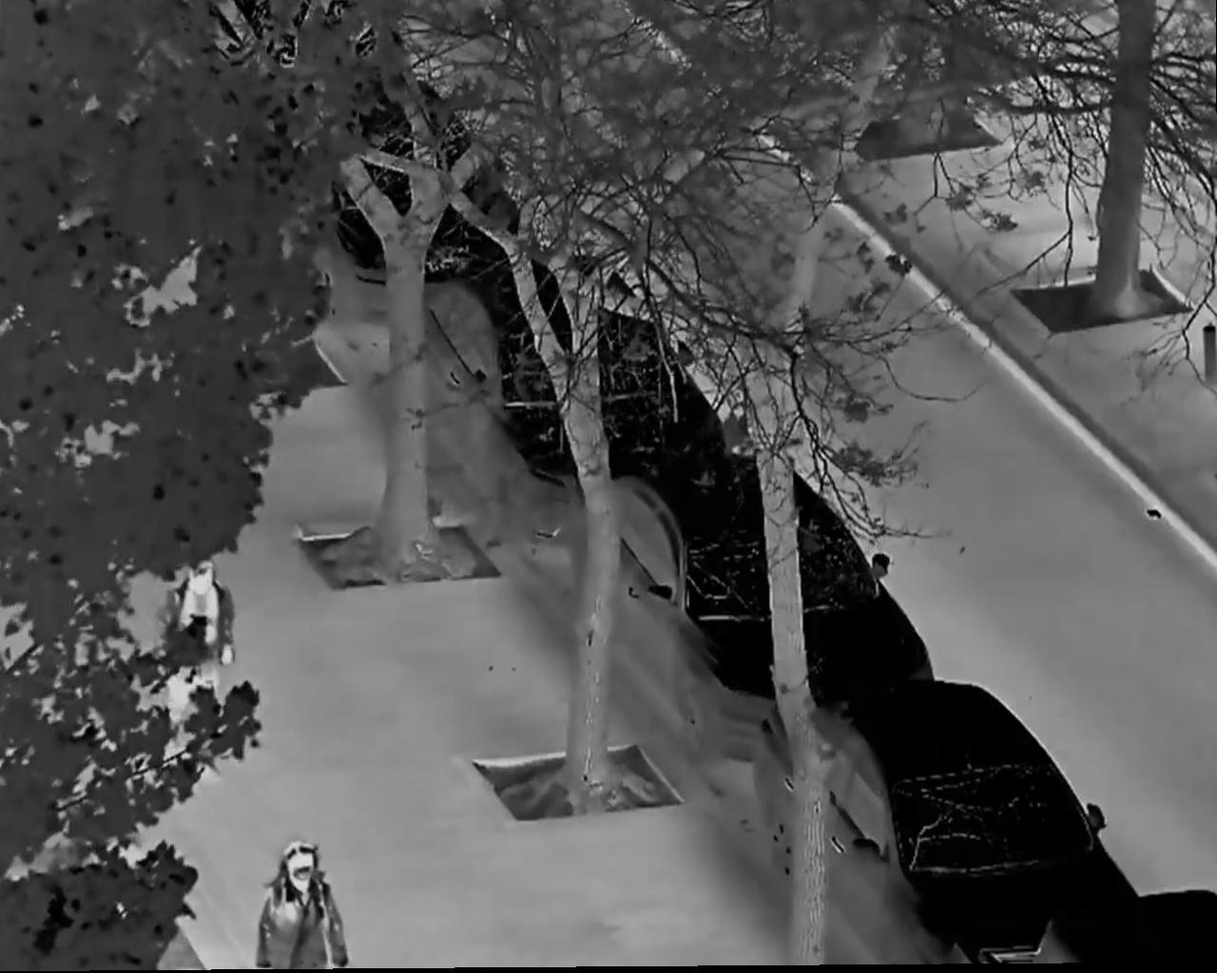person: (157, 559, 243, 781), (250, 841, 353, 973)
